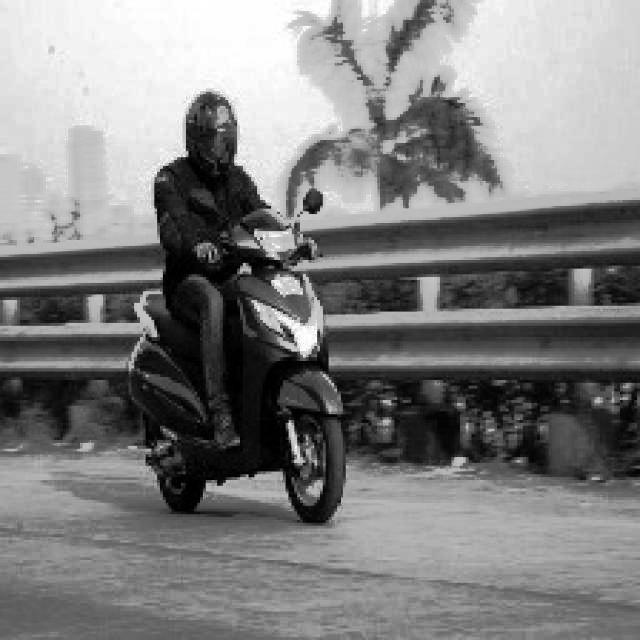Bike: (121, 236, 349, 518)
